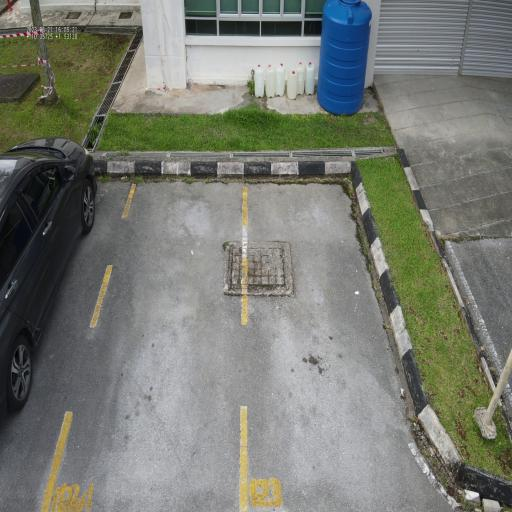Empty: (26, 168, 254, 512), (235, 162, 456, 512)
